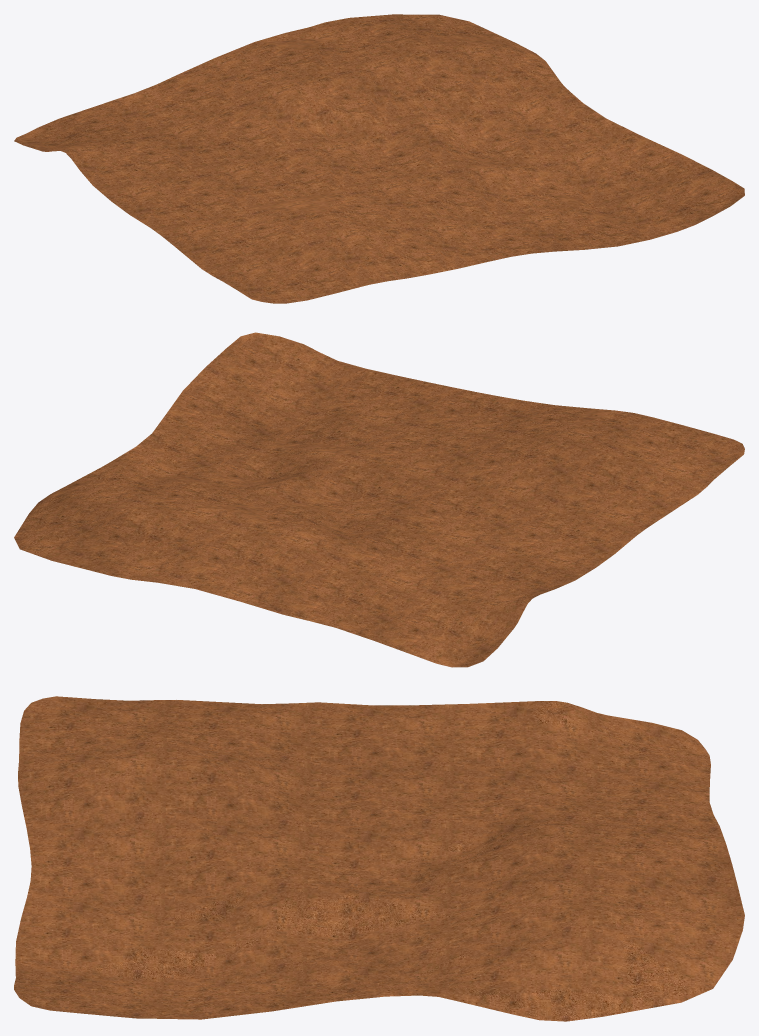
The model's file is MarsGround.obj.
The picture shows the model from 3 angles, top to bottom: view 1: azimuth 30°, elevation 25°; view 2: azimuth 150°, elevation 25°; view 3: azimuth 270°, elevation 25°; orthographic projection. The views are drawn at different scales.
Parts seen in each view (by area): view 1: Plane; view 2: Plane; view 3: Plane.
Part boxes in pixels (x1,y1,x2,y2): Plane: (14, 14, 744, 303); Plane: (14, 332, 744, 667); Plane: (14, 696, 744, 1021).
Bounding box in the file's own units: 25.34 × 2.15 × 25.47.
1 material, 1 textured.
